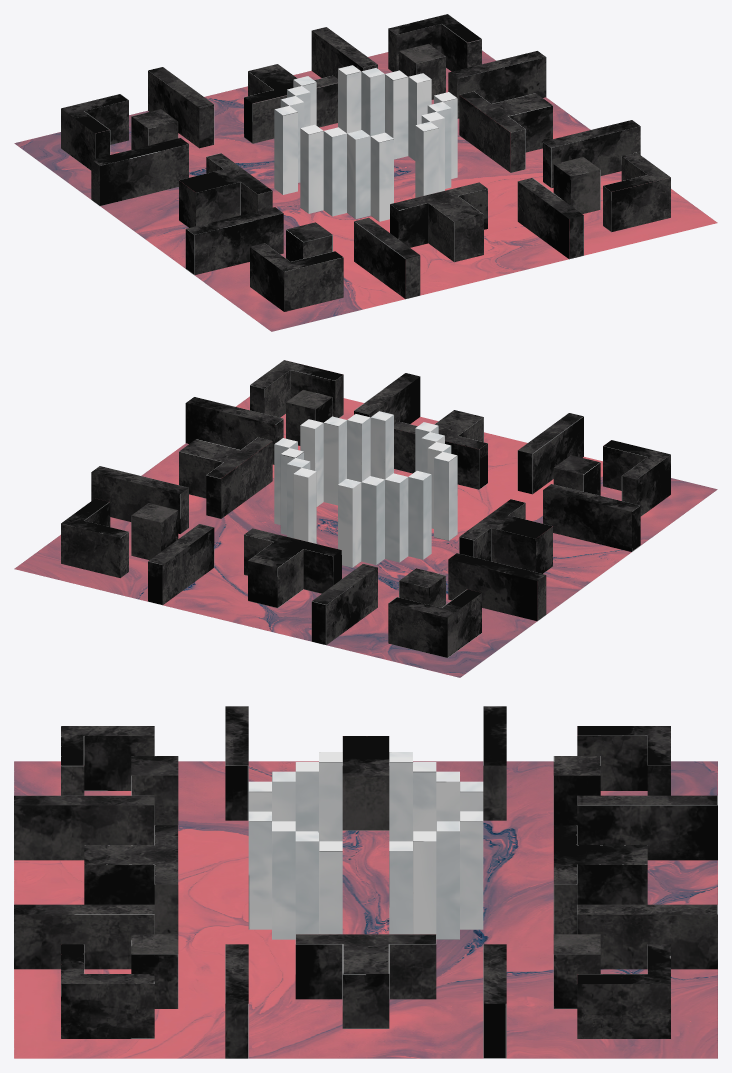
Rendered from arena.obj.
3 renders of one model, top to bottom at view 1: azimuth 30°, elevation 25°; view 2: azimuth 150°, elevation 25°; view 3: azimuth 270°, elevation 25°, orthographic. The views are drawn at different scales.
Parts seen in each view (by area): view 1: Plane; view 2: Plane; view 3: Plane.
Boxes of the visible parts, x1,y1,x2,y2 form: Plane: (14, 14, 717, 331); Plane: (14, 360, 717, 677); Plane: (14, 706, 717, 1058).
Size of the model in its own units: 348 by 59.18 by 348.
